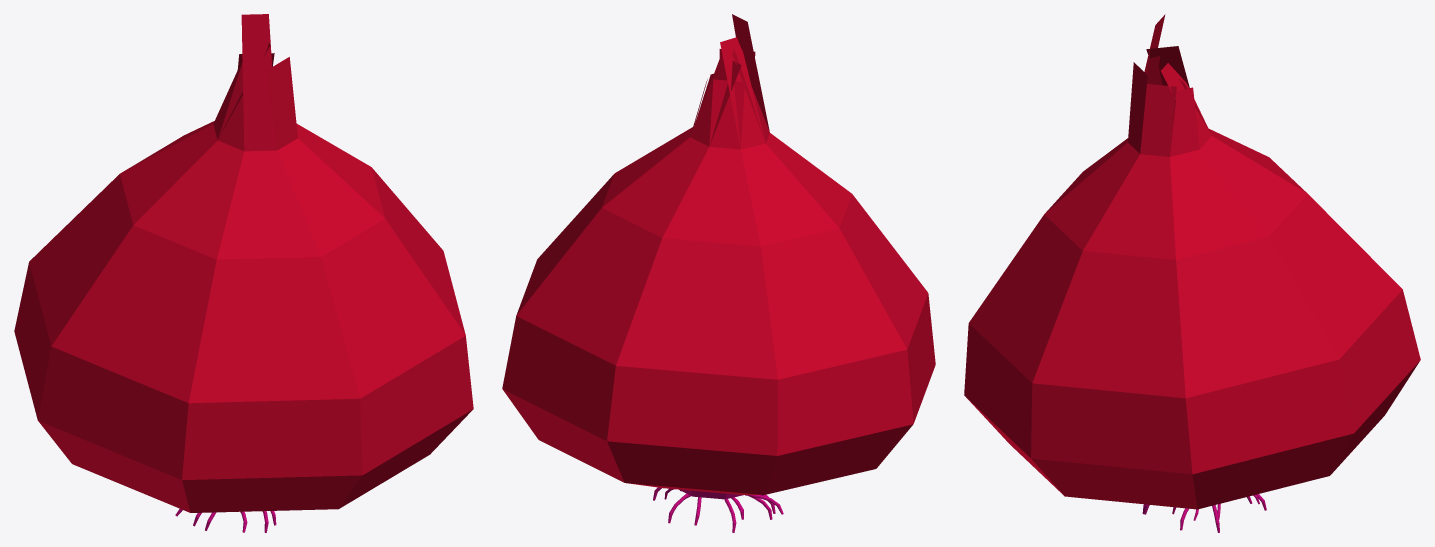
File: Onion_01.fbx
The picture shows the model from 3 angles, left to right: view 1: azimuth 30°, elevation 25°; view 2: azimuth 150°, elevation 25°; view 3: azimuth 270°, elevation 25°; orthographic projection. The views are drawn at different scales.
Parts seen in each view (by area): view 1: Onion_01; view 2: Onion_01; view 3: Onion_01.
Boxes of the visible parts, left/top/right/bottom form: Onion_01: left=14, top=14, right=473, bottom=532; Onion_01: left=502, top=14, right=935, bottom=532; Onion_01: left=964, top=14, right=1420, bottom=532.
Bounding box in the file's own units: 4.8 × 5.71 × 4.79.
